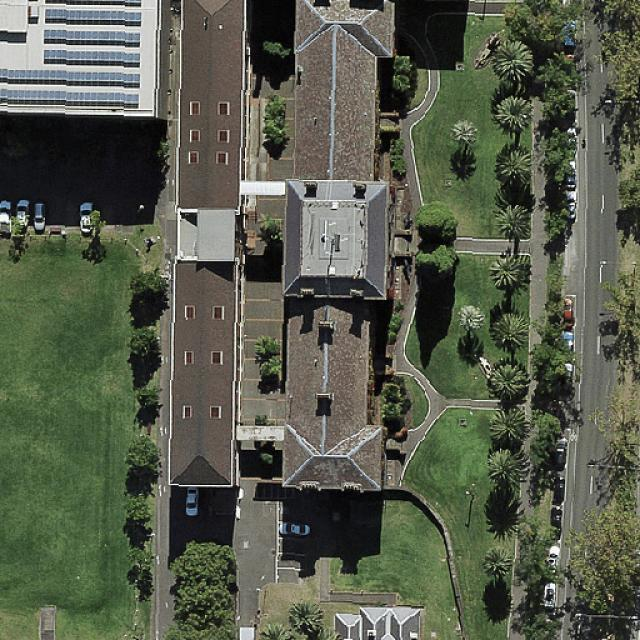Bike-Symbols: (570, 432, 577, 442)
